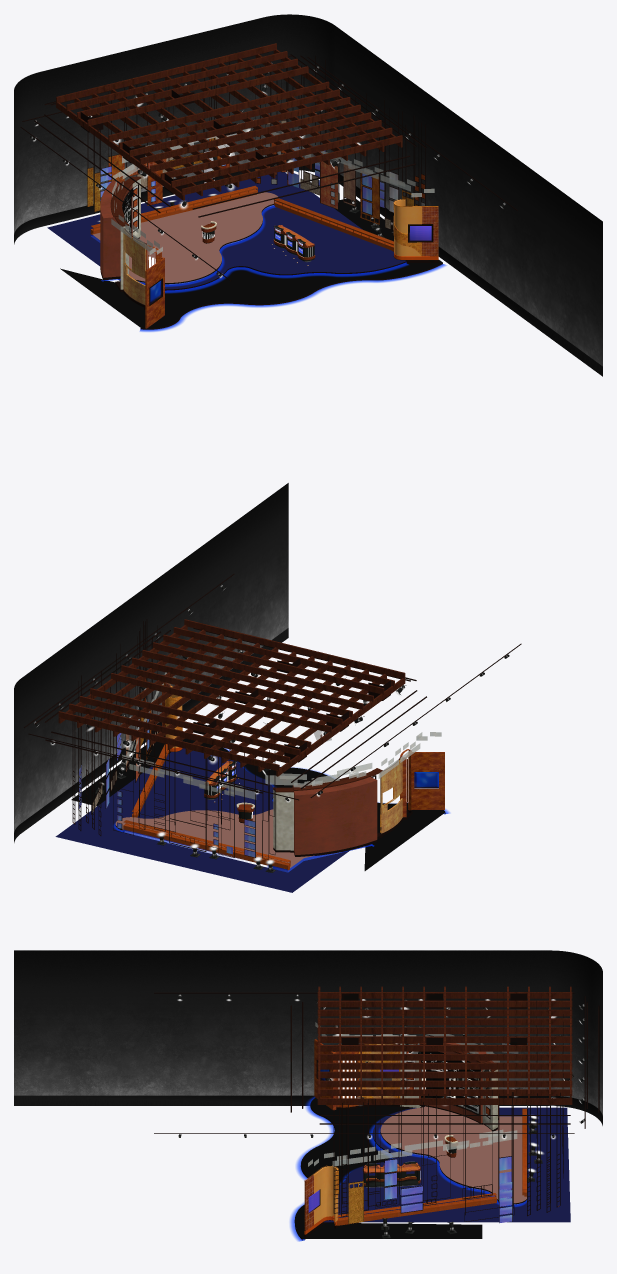
Rendered from stage5.glb.
3 renders of one model, top to bottom at view 1: azimuth 30°, elevation 25°; view 2: azimuth 150°, elevation 25°; view 3: azimuth 270°, elevation 25°, orthographic.
Parts seen in each view (by area): view 1: background_eastShape, ceilingShape:1, background_northShape, floor_midShape, floor_bottomShape, floor_topShape, background_westShape, ceilingShape:3, frames_eastShape:1, tileboard_swf_frameShape:3, stage1_eastShape, stageShape3:1 (+12 smaller); view 2: background_eastShape, ceilingShape:1, floor_midShape, frames_eastShape:1, tileboard_swf_frameShape:3, ceilingShape:3, floor_bottomShape, floor_topShape, stageShape3:3, stage1_northShape, reflectors_westShape, tileboard_swf_frameShape:0 (+5 smaller); view 3: background_westShape, ceilingShape:1, floor_midShape, floor_topShape, floor_bottomShape, frames_eastShape:1, ceilingShape:3, trans_panels_eastShape:1, reflectors_eastShape, stage1_eastShape, stageShape2:6, stageShape3:3 (+9 smaller).
Boxes of the visible parts, box(x1,y1,x2,y2) form: background_eastShape: box(259, 14, 602, 376); ceilingShape:1: box(56, 43, 402, 200); background_northShape: box(40, 18, 258, 226); floor_midShape: box(47, 171, 405, 289); floor_bottomShape: box(60, 198, 442, 328); floor_topShape: box(93, 192, 277, 282); background_westShape: box(14, 72, 40, 244); ceilingShape:3: box(20, 52, 517, 281); frames_eastShape:1: box(87, 55, 425, 230); tileboard_swf_frameShape:3: box(100, 180, 132, 277); stage1_eastShape: box(274, 198, 393, 251); stageShape3:1: box(123, 229, 145, 304); background_eastShape: box(14, 483, 288, 842); ceilingShape:1: box(58, 619, 405, 776); floor_midShape: box(55, 748, 348, 892); frames_eastShape:1: box(72, 619, 275, 859); tileboard_swf_frameShape:3: box(292, 777, 377, 854); ceilingShape:3: box(24, 573, 521, 800); floor_bottomShape: box(71, 738, 445, 870); floor_topShape: box(115, 809, 314, 867); stageShape3:3: box(400, 749, 444, 817); stage1_northShape: box(123, 820, 290, 870); reflectors_westShape: box(265, 732, 441, 787); tileboard_swf_frameShape:0: box(273, 790, 293, 850); background_westShape: box(14, 950, 602, 1125); ceilingShape:1: box(317, 986, 572, 1104); floor_midShape: box(323, 1107, 570, 1222); floor_topShape: box(380, 1106, 526, 1203); floor_bottomShape: box(295, 1096, 482, 1238); frames_eastShape:1: box(333, 1001, 563, 1223); ceilingShape:3: box(154, 992, 599, 1133); trans_panels_eastShape:1: box(384, 1156, 512, 1222); reflectors_eastShape: box(308, 1129, 517, 1166); stage1_eastShape: box(332, 1193, 496, 1225); stageShape2:6: box(313, 1166, 338, 1224); stageShape3:3: box(314, 1039, 358, 1110).
Size of the model in its own units: 1721 by 813 by 2790.
63 materials, 62 textured.
